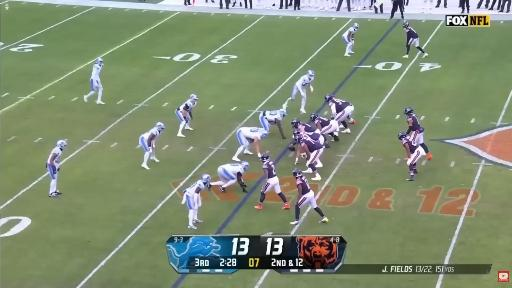Helmet: (260, 152, 270, 162), (201, 174, 211, 183), (57, 139, 67, 148), (292, 119, 301, 128), (293, 169, 302, 178), (404, 107, 413, 115), (241, 161, 249, 170), (398, 132, 407, 140), (325, 95, 334, 103), (156, 123, 165, 131), (280, 108, 287, 117), (307, 71, 314, 80), (261, 130, 268, 138), (294, 135, 302, 142), (311, 114, 318, 121), (191, 94, 197, 101), (354, 23, 360, 30), (293, 130, 301, 135), (96, 59, 102, 64)
Jersey: (301, 135, 323, 152), (240, 127, 265, 140), (330, 99, 351, 114), (185, 180, 205, 194), (47, 147, 62, 165), (296, 176, 310, 195), (407, 114, 422, 131), (221, 164, 244, 175), (402, 138, 418, 153), (264, 111, 282, 124), (263, 161, 276, 178), (143, 128, 161, 140), (296, 75, 313, 87), (405, 27, 418, 42), (299, 123, 318, 133), (91, 63, 102, 80), (179, 100, 195, 111), (315, 117, 330, 127), (343, 27, 355, 39), (308, 133, 321, 141)
Player: (291, 169, 328, 225), (255, 153, 290, 209), (182, 174, 211, 229), (405, 107, 432, 160), (398, 132, 425, 180), (284, 70, 314, 113), (295, 134, 323, 180), (232, 127, 268, 161), (139, 122, 165, 169), (47, 140, 67, 197), (325, 95, 355, 133), (212, 162, 249, 192), (292, 119, 329, 148), (176, 94, 198, 137), (84, 58, 104, 104), (403, 21, 428, 57), (259, 109, 286, 139), (311, 114, 339, 141), (342, 23, 358, 56), (292, 119, 320, 133), (422, 0, 433, 13)
